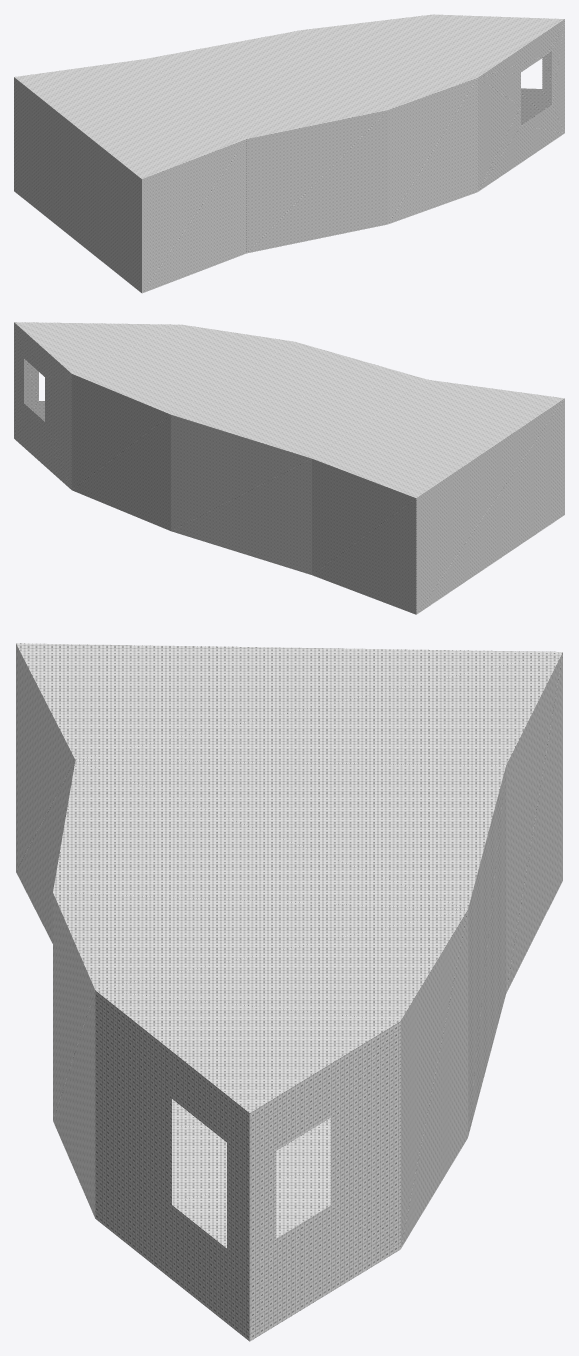
3 renders of one model, top to bottom at view 1: azimuth 30°, elevation 25°; view 2: azimuth 150°, elevation 25°; view 3: azimuth 270°, elevation 25°, orthographic. The views are drawn at different scales.
Parts seen in each view (by area): view 1: PolyShape; view 2: PolyShape; view 3: PolyShape.
Boxes of the visible parts, x1=… form: PolyShape: x1=14, y1=14, x2=564, y2=293; PolyShape: x1=14, y1=322, x2=564, y2=614; PolyShape: x1=16, y1=643, x2=562, y2=1341.
Size of the model in its own units: 14162 by 3210 by 6970.
